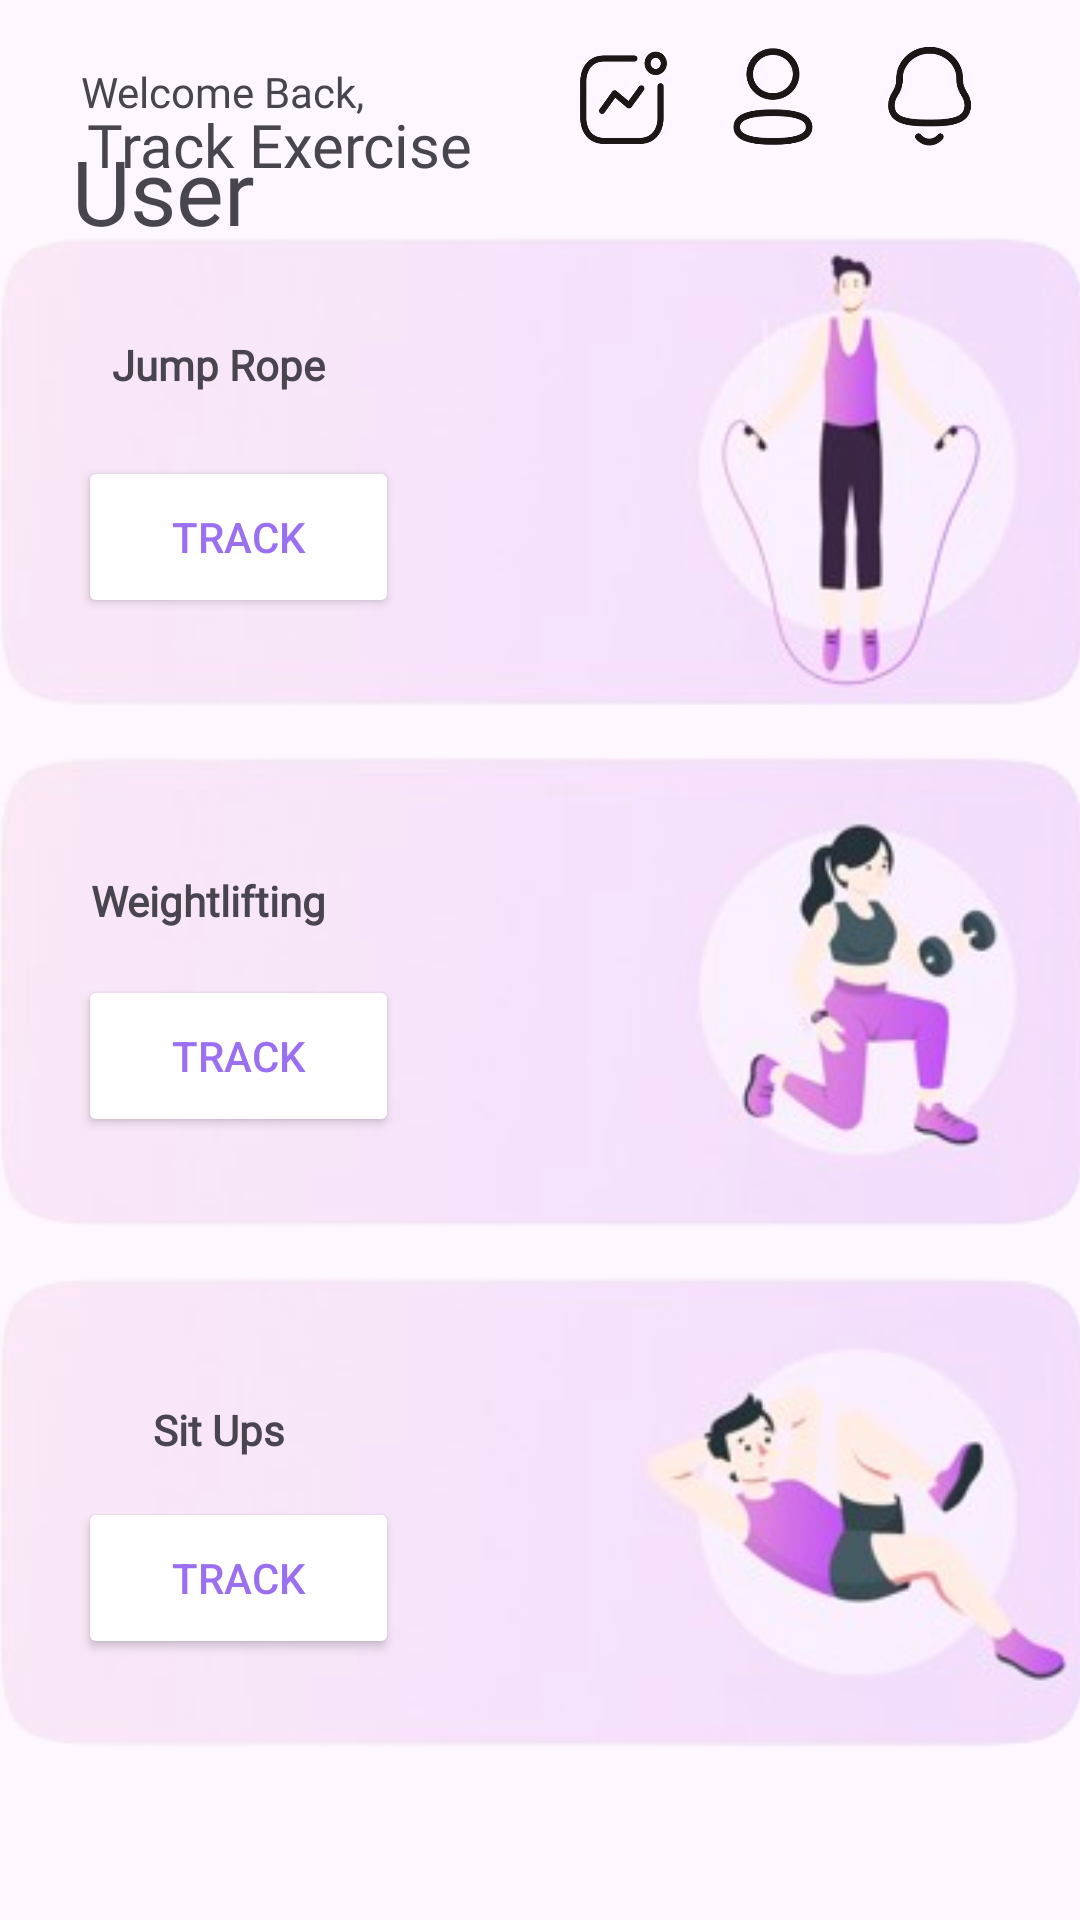

Icon click points for this 1080w x 1920h phone screenshot, format (x,y):
activity: (623,97)
notification: (929,96)
profile: (773,96)
